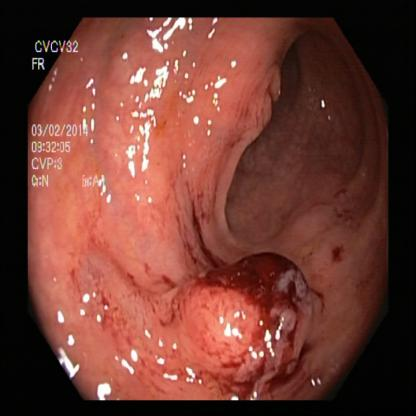Labels: (27, 32, 126, 199)
Polyps: (187, 259, 319, 384)
